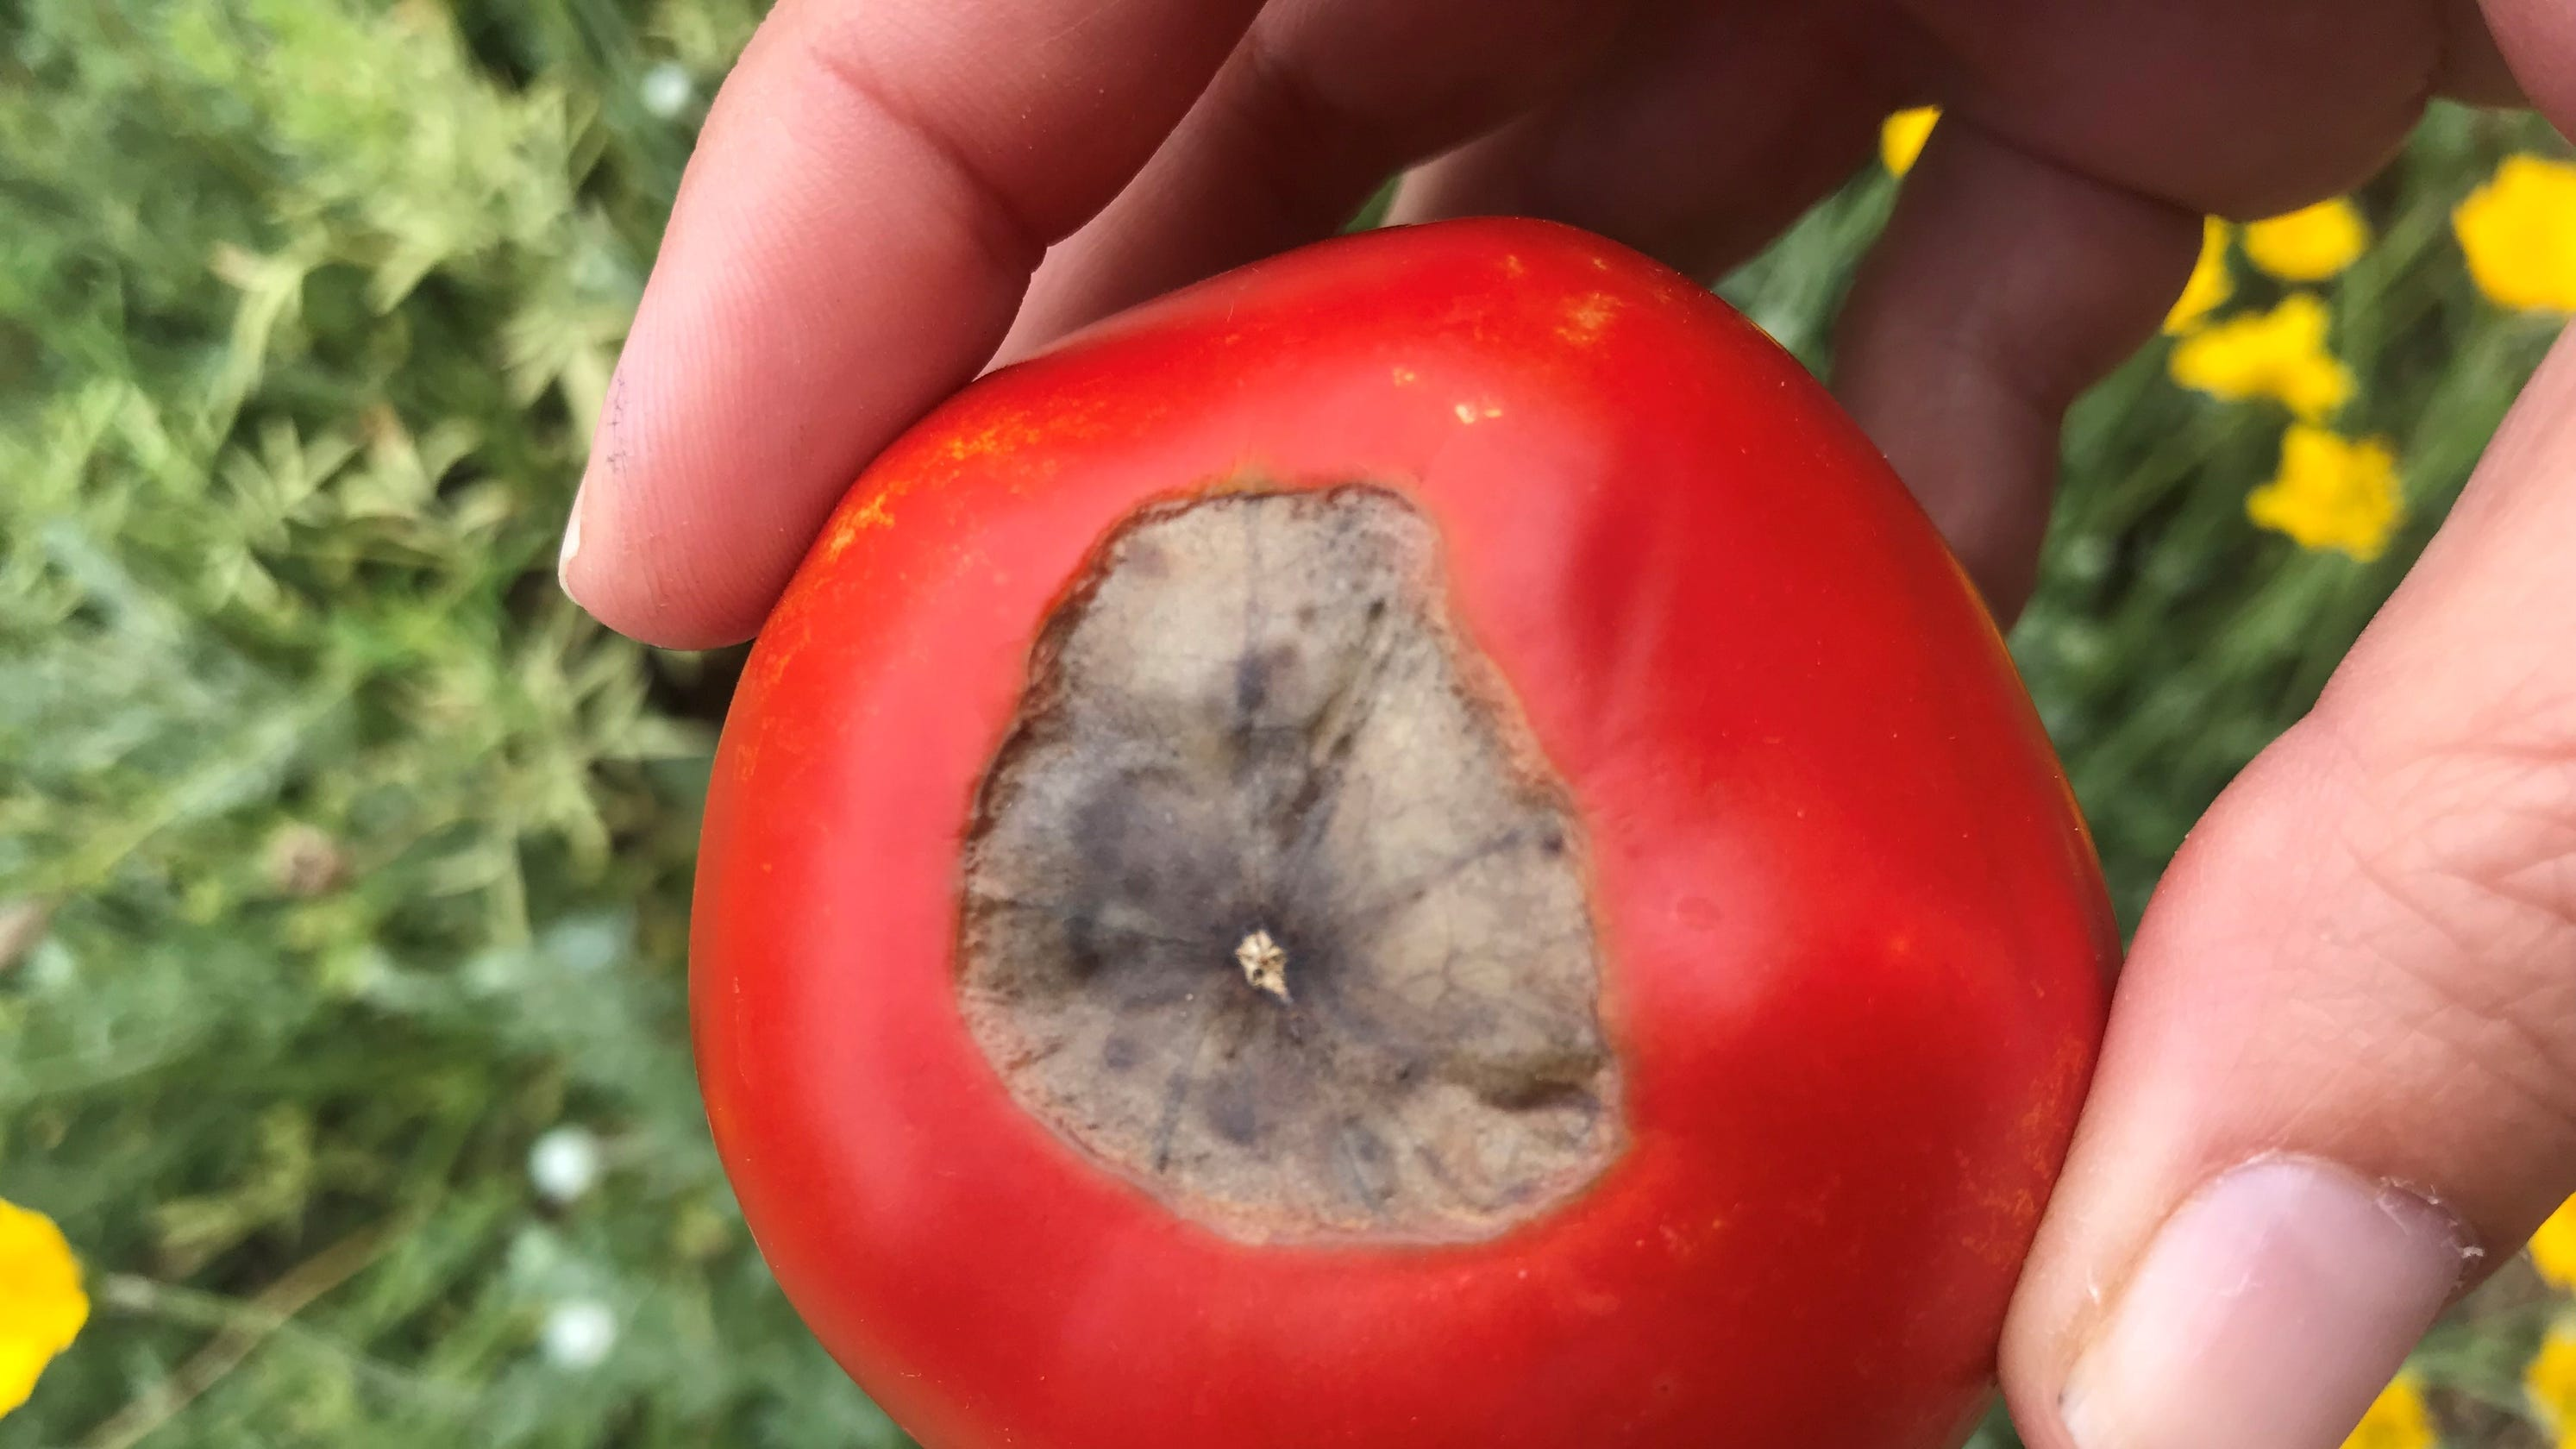blossom_rotw: (890, 416, 1766, 1346)
